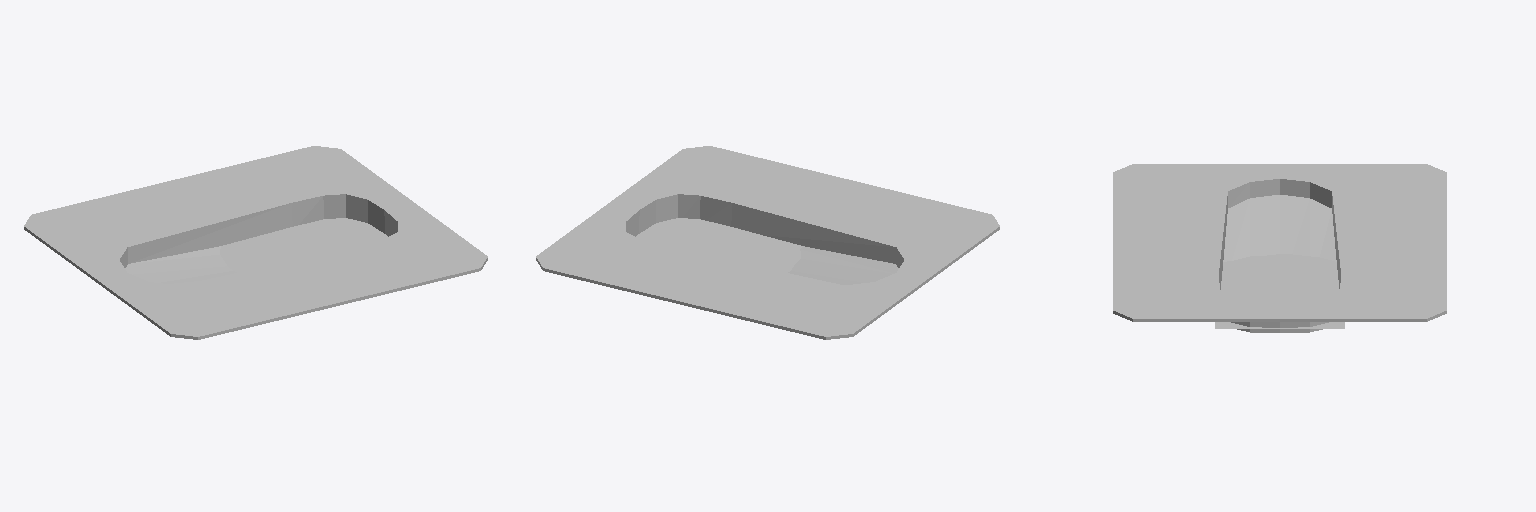
File: hor1 toilet2 bowl.obj
3 renders of one model, left to right at view 1: azimuth 30°, elevation 25°; view 2: azimuth 150°, elevation 25°; view 3: azimuth 270°, elevation 25°, orthographic.
Visible parts, largest first — view 1: toilet_2_bowl_Plane.034; view 2: toilet_2_bowl_Plane.034; view 3: toilet_2_bowl_Plane.034.
Part boxes in pixels (bbox=[...]): toilet_2_bowl_Plane.034: bbox=[24, 146, 487, 339]; toilet_2_bowl_Plane.034: bbox=[536, 146, 999, 339]; toilet_2_bowl_Plane.034: bbox=[1113, 164, 1446, 332].
Size of the model in its own units: 1.08 by 0.0953 by 0.9887.